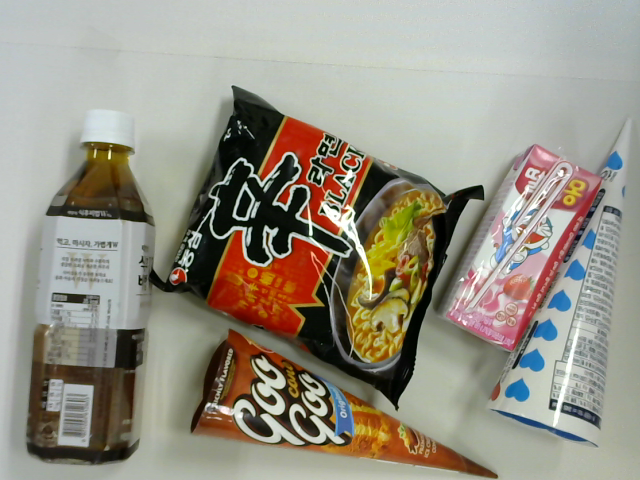Bravo_Cone_(Banila)_CVS: (485, 115, 631, 441)
GooGoo_Cone_CVS: (188, 333, 500, 480)
Post-meal_recipe_W_tea_500ml: (24, 106, 150, 471)
Sinramen_Black: (174, 107, 454, 386)
Strawberry_E_Mong: (445, 147, 592, 342)
